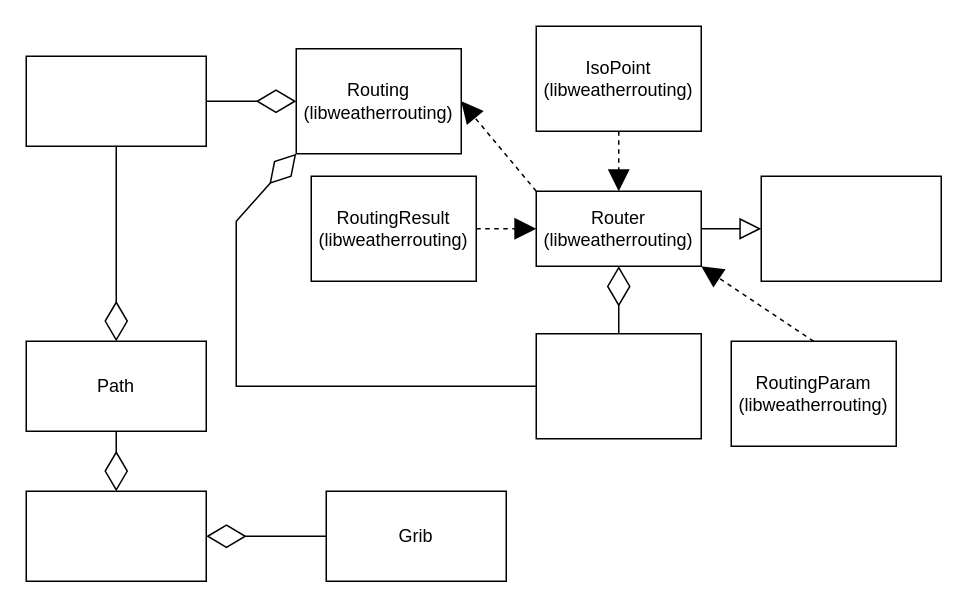
Some shapes in this 968 by 608 pixel diagram are drawn without their labels. Each missing label, with the box of its shape:
Boat: (25, 55, 206, 146)
Grib (libweatherrouting): (535, 332, 701, 439)
LinearBestIsoRouter (libweatherrouting): (760, 175, 941, 281)
Routing_Model: (25, 490, 206, 581)
